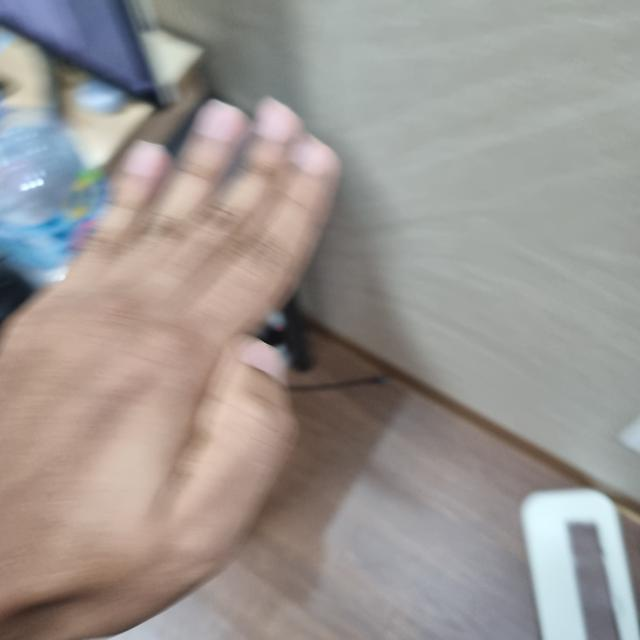Paper: (0, 101, 337, 638)
